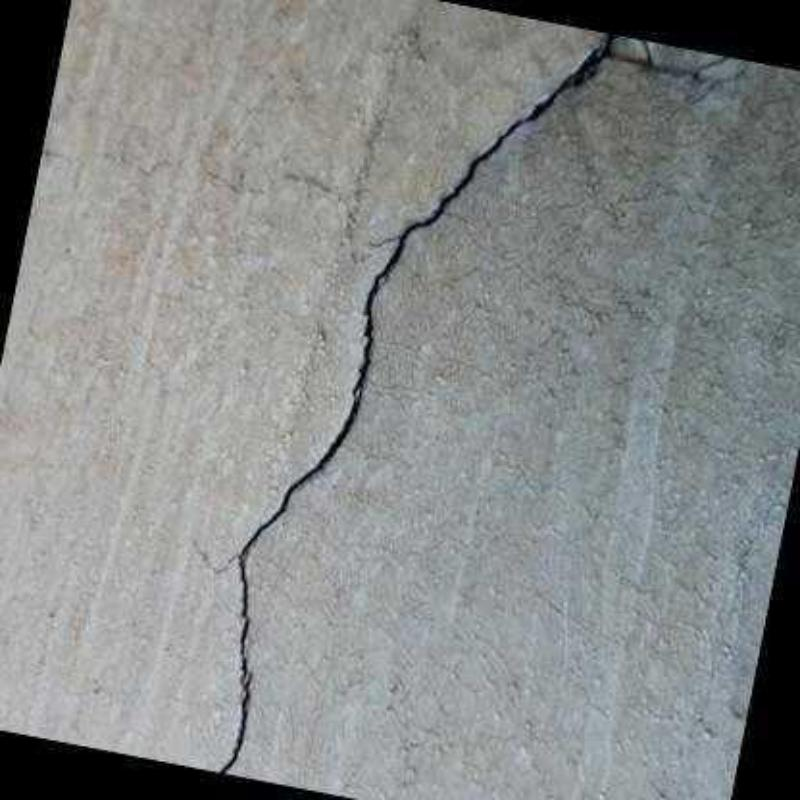crack: (222, 38, 732, 776)
